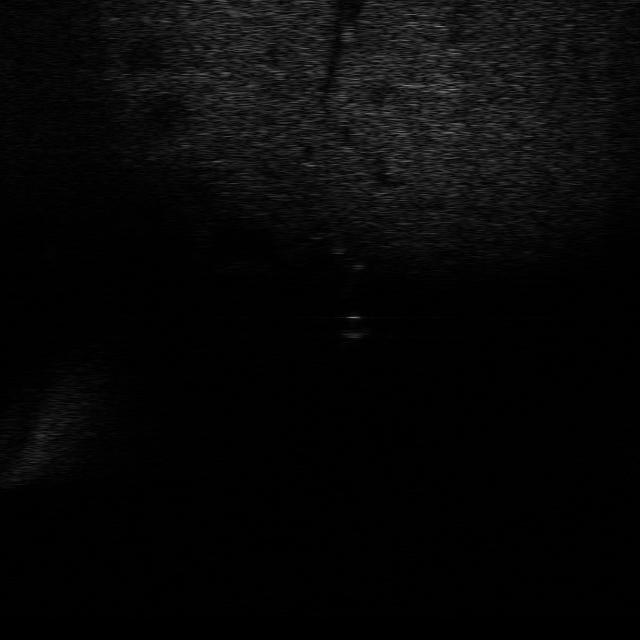ball: (335, 312, 377, 339)
human body: (324, 213, 365, 298)
